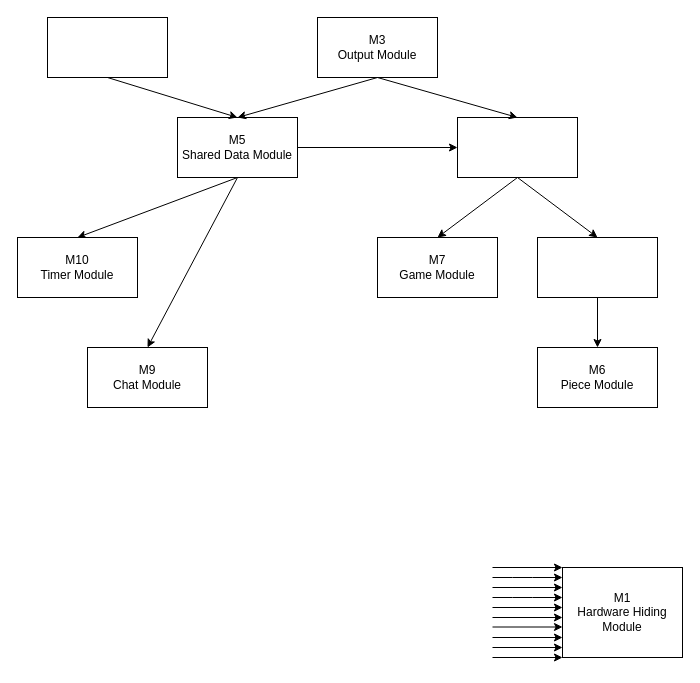
The diagram is 700 pixels wide and 683 high, and some of its shapes have lost their labels. Here are the shapes that lost their labels. From the top down, the box of each, then its label:
(46, 16, 168, 78): M2 Input Module
(456, 116, 578, 178): M8 App Module
(536, 236, 658, 298): M4 Board Module
